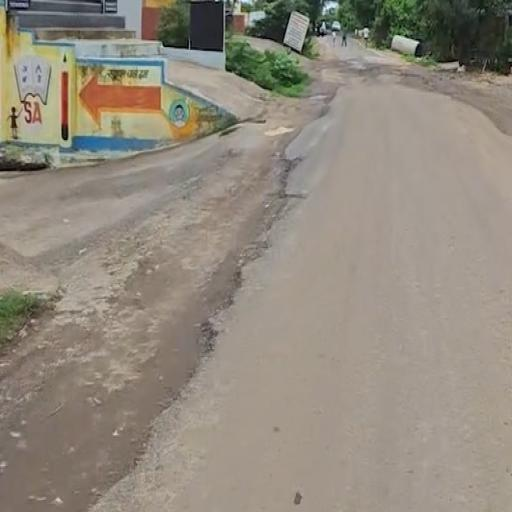edge_damage: (69, 135, 335, 509)
